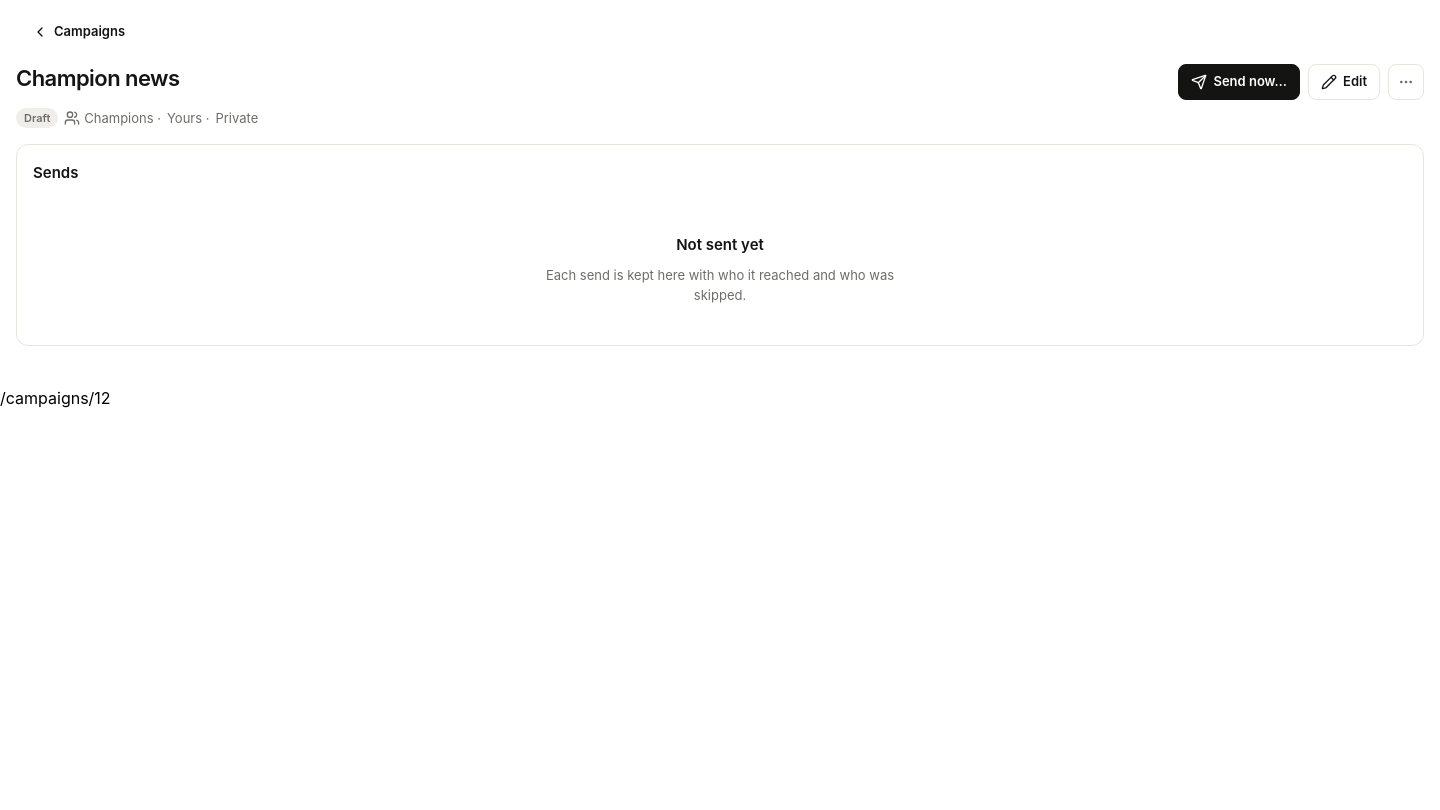
Test: Send now… on a campaign page (spec §2.3) › will not send to nobody
Click the button "Send now…".
click(1239, 82)  # box [1178,64,1300,100]
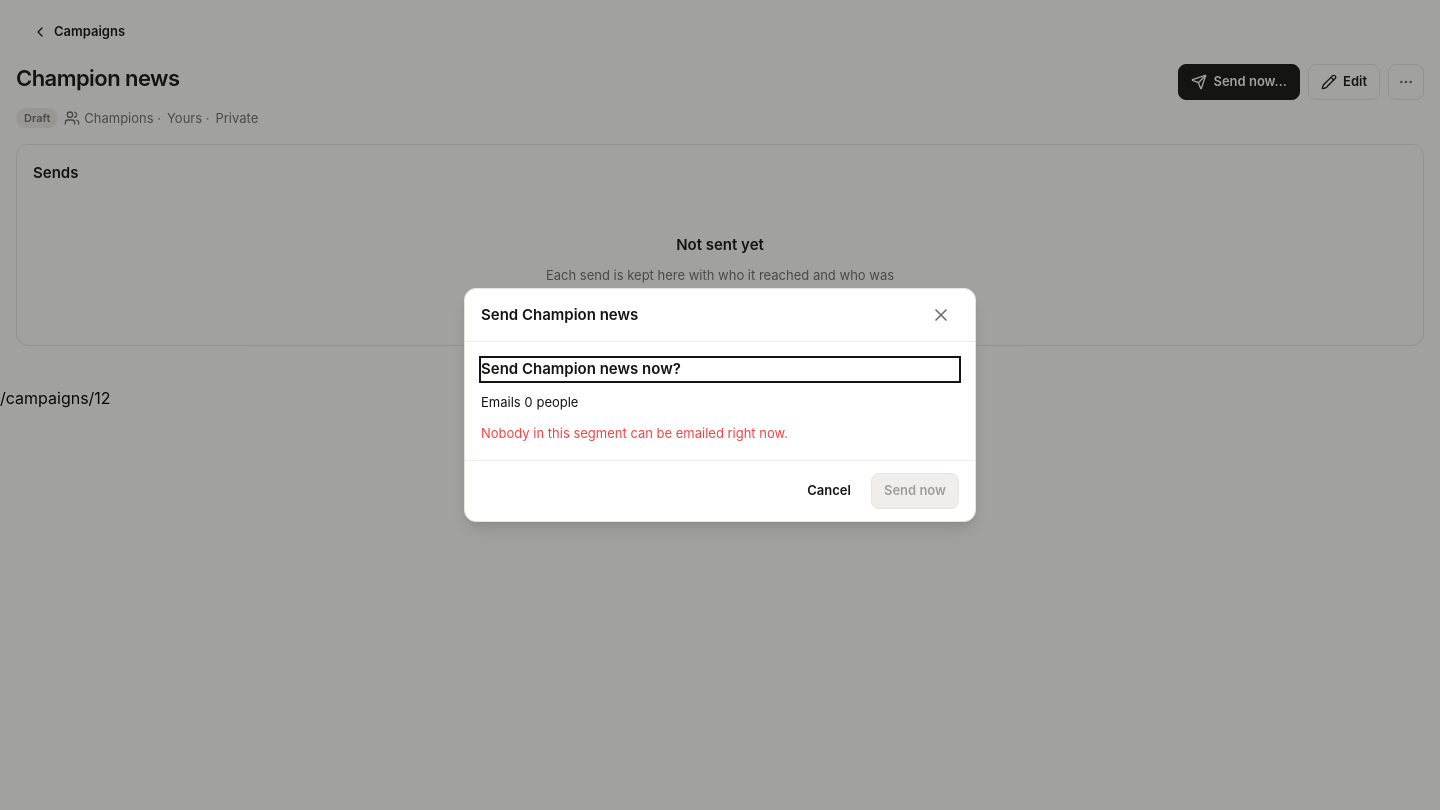
Now the text "Nobody in this segment can be emailed right now." is shown, box [481,425,788,441]
Now the button "Send now" is disabled, box [871,473,959,509]
